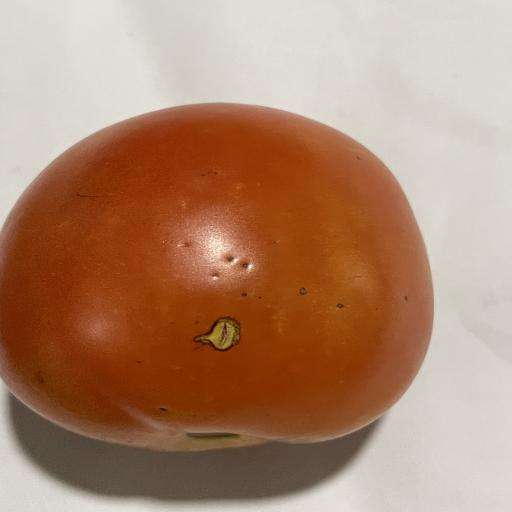unripe: (0, 103, 432, 451)
